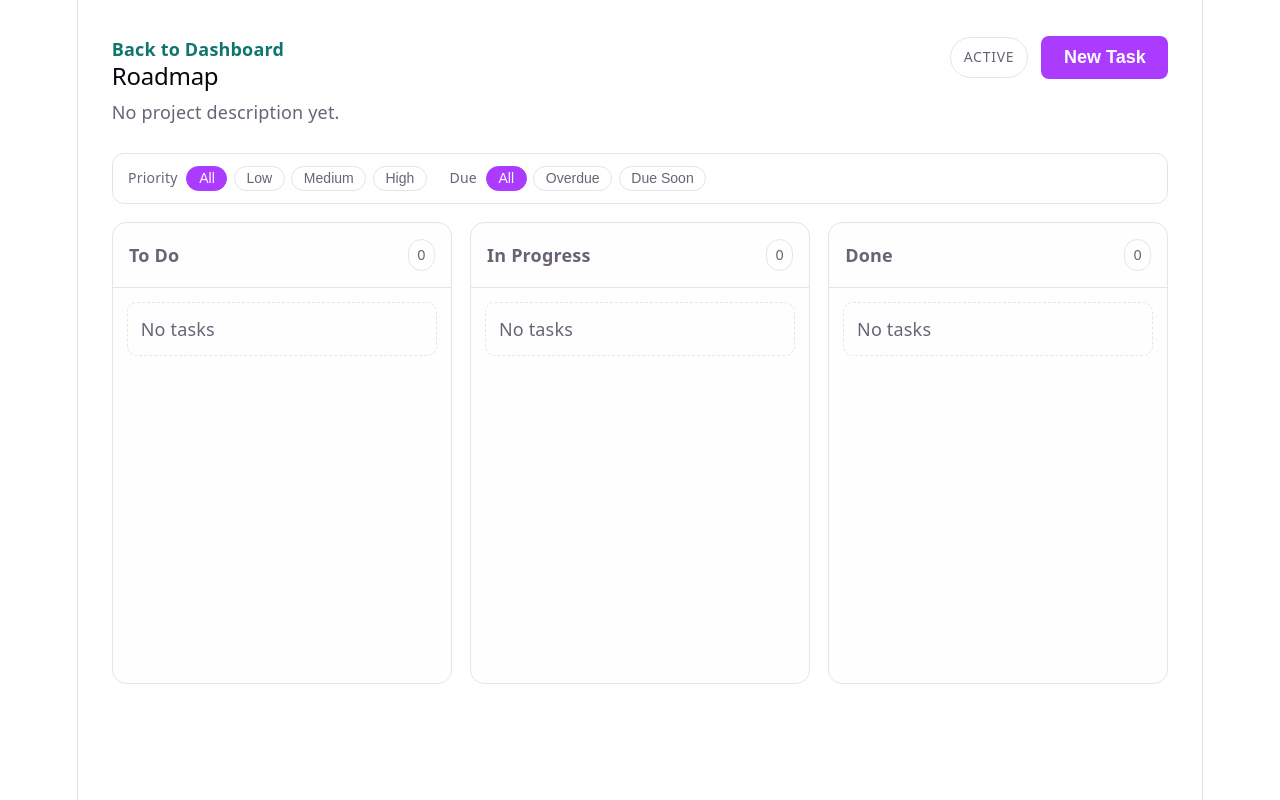
Scenario: ProjectDetails › validates title before creating a task
This screenshot has width=1280, height=800.
Expected: the heading "Roadmap" is shown, x1=112 y1=59 x2=218 y2=92
Click the button "New Task" at (1105, 57), box x1=1041 y1=36 x2=1168 y2=79
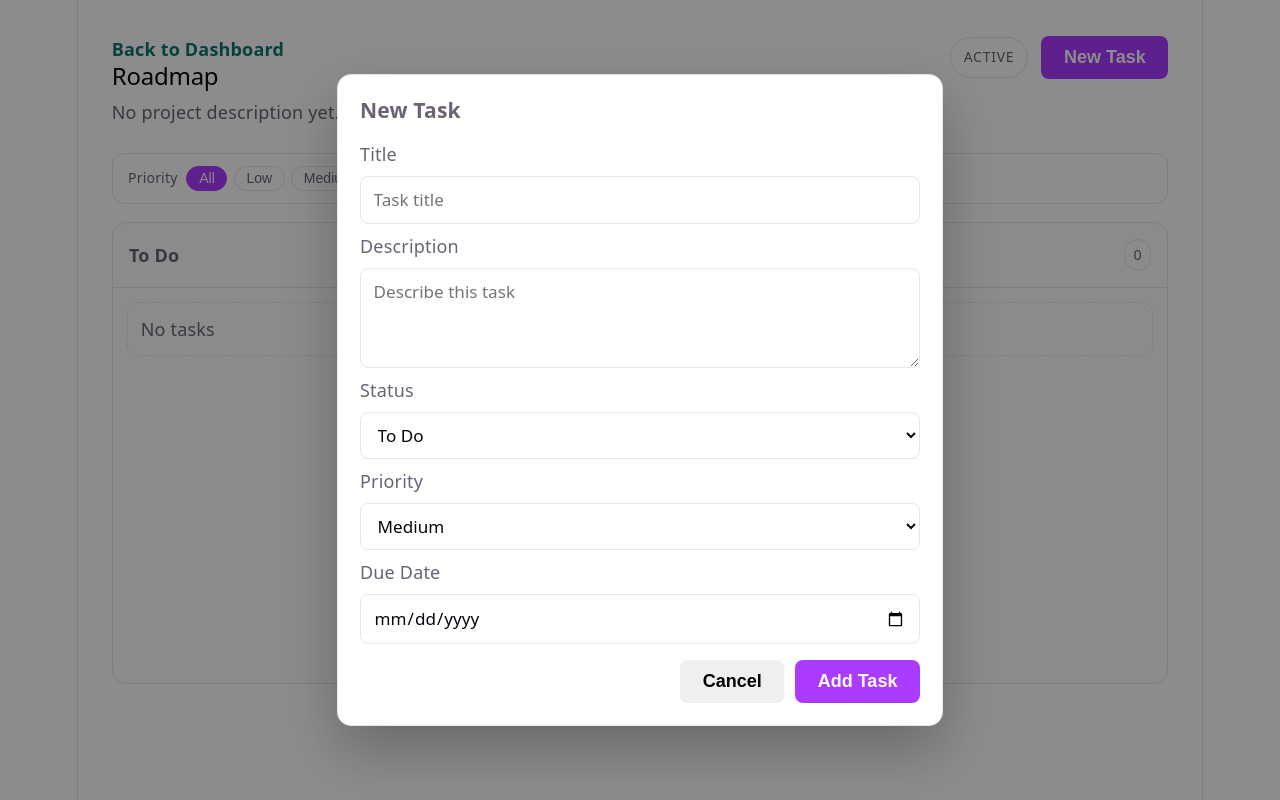
Click the button "Add Task" at (858, 682), box x1=795 y1=660 x2=920 y2=703
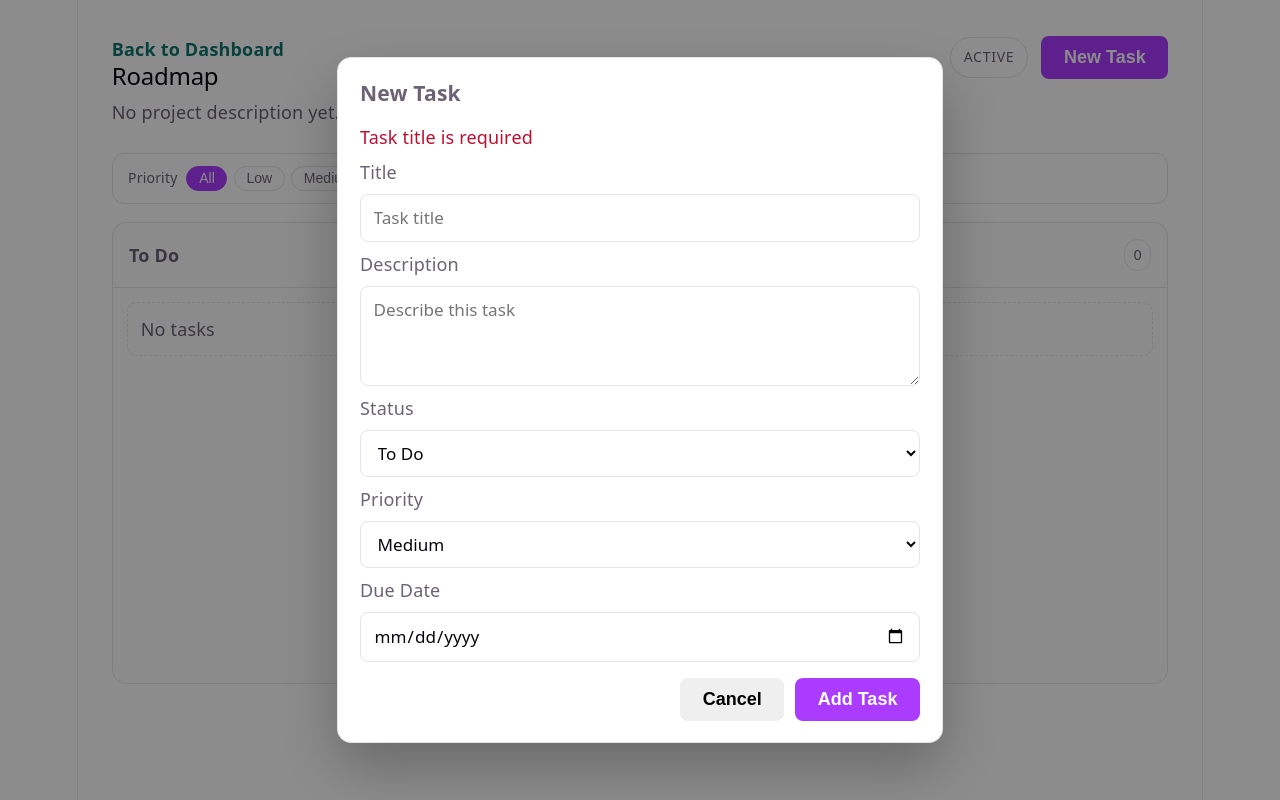
Expected: the text "Task title is required" is shown, x1=360 y1=125 x2=533 y2=149
